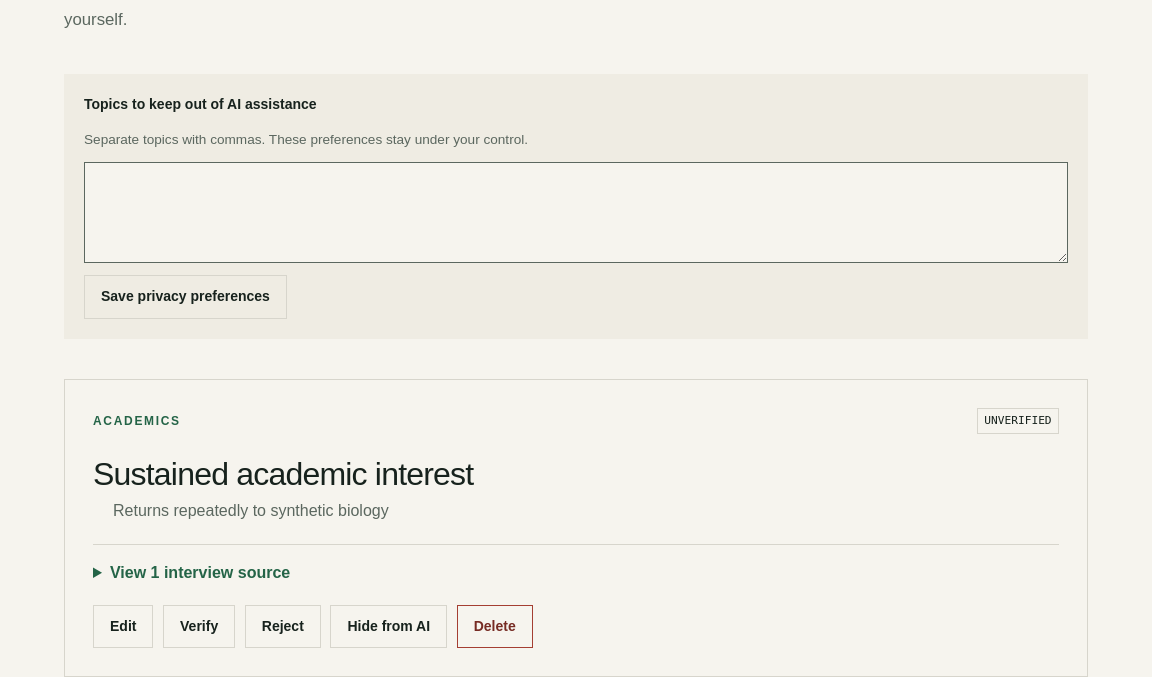
Story Vault review › shows source evidence and explicit review controls
The image size is (1152, 677).
(page scrolled)
expect the heading "Sustained academic interest" is shown: met, box [93, 456, 473, 492]
Click the heading "View 1 interview source". click: coordinates (200, 572)
box: [110, 564, 290, 581]
(page scrolled)
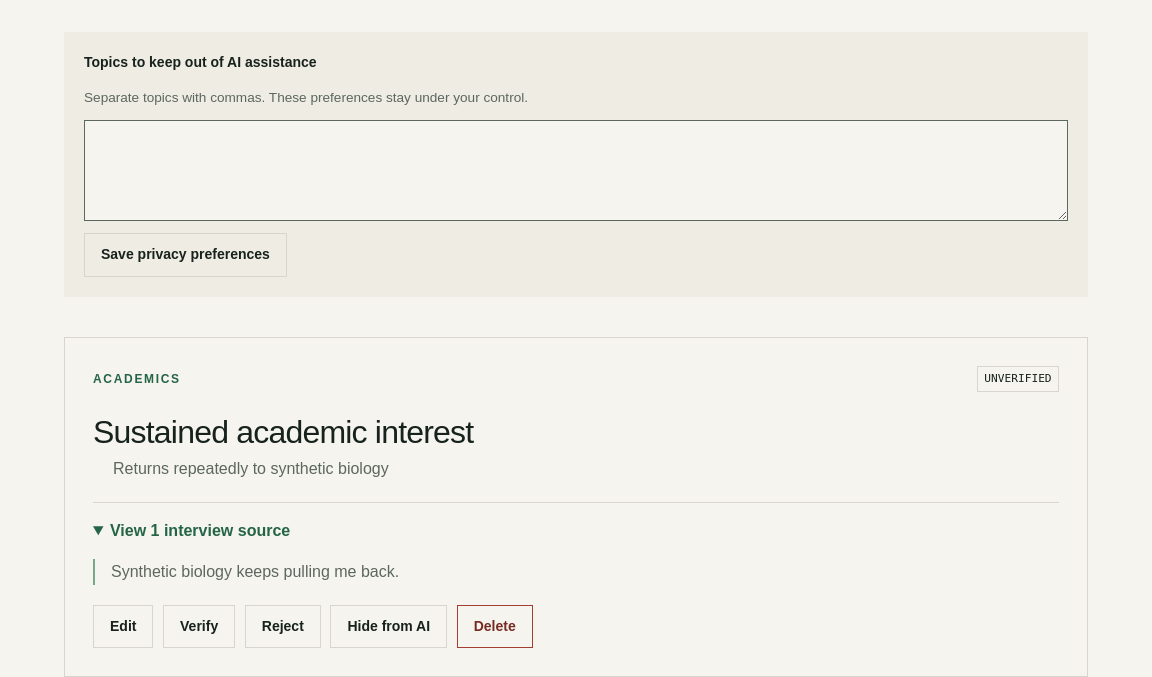
expect the button "Verify" is shown: met, box [163, 604, 235, 648]
expect the text "Synthetic biology keeps pulling me back." is shown: met, box [93, 559, 1059, 584]
